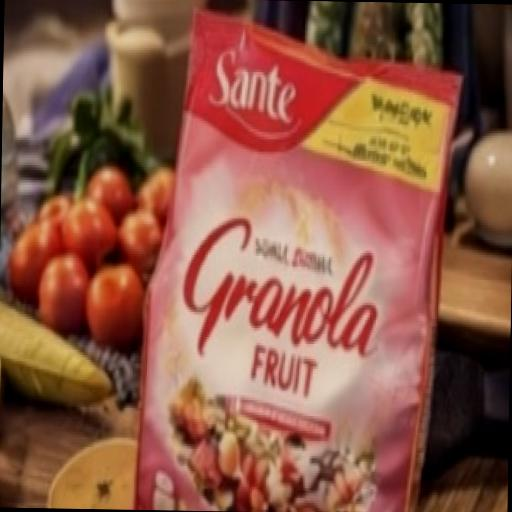granola: (140, 0, 465, 512)
